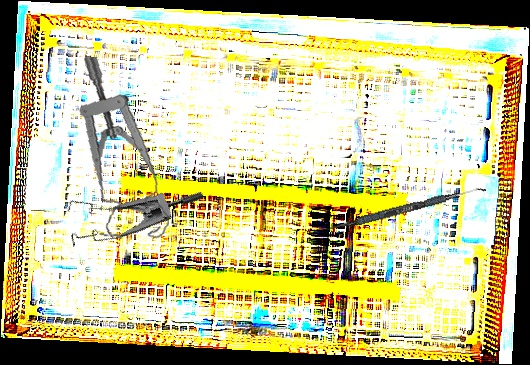Spatula Surgical: (323, 181, 487, 237)
Speculum: (63, 55, 188, 245), (52, 140, 206, 270)
